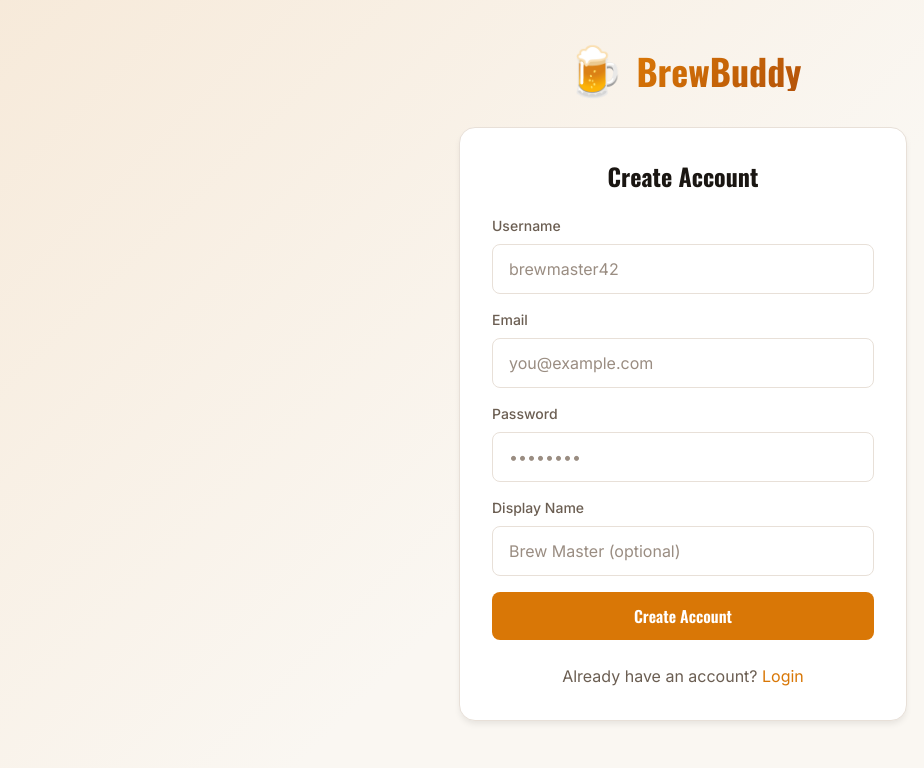
Register Page › displays username length error for short username
This screenshot has width=924, height=768.
Type "ab" into the field labelled "Username" at (683, 269), box [492,244,874,294]
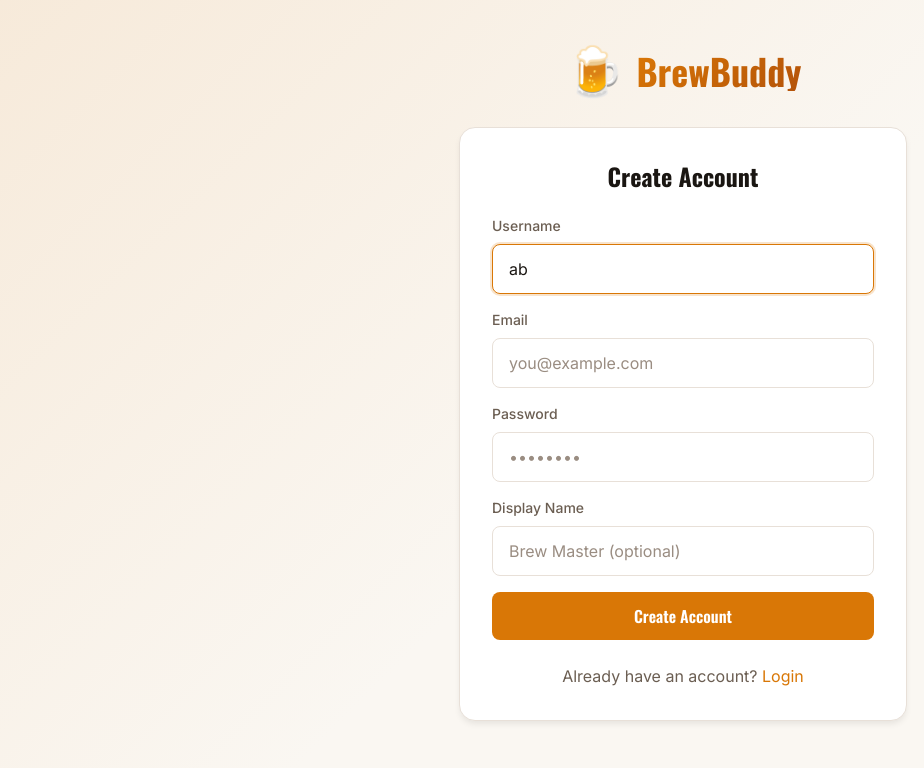
Click the button "Create Account" at (683, 616), box [492,592,874,640]
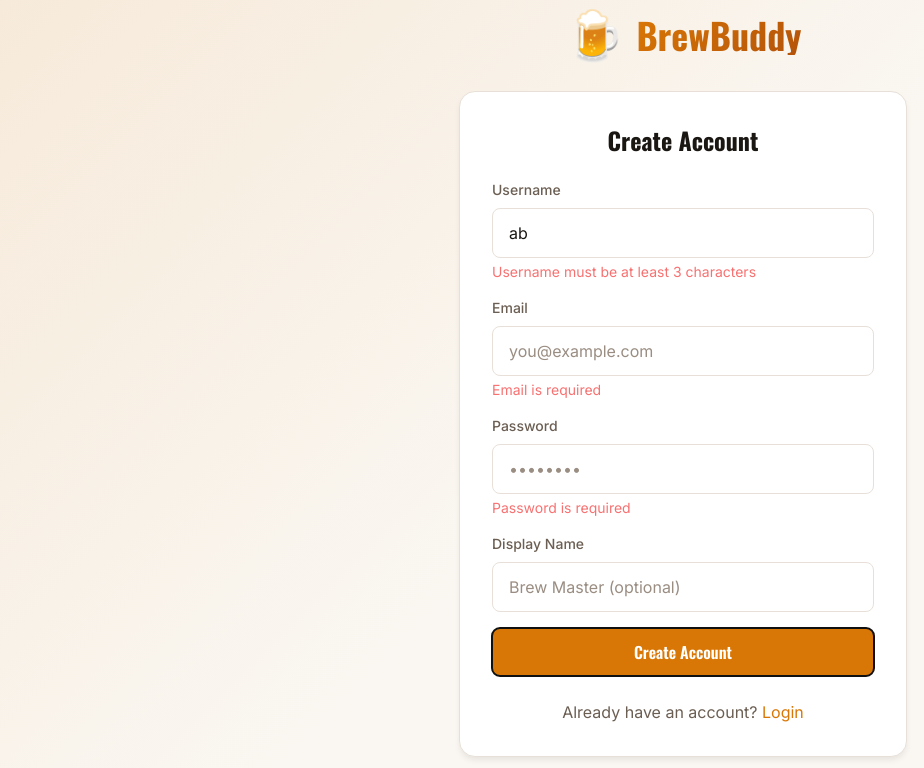
Check: the text "Username must be at least 3 characters" is shown, box [492,263,756,280]
